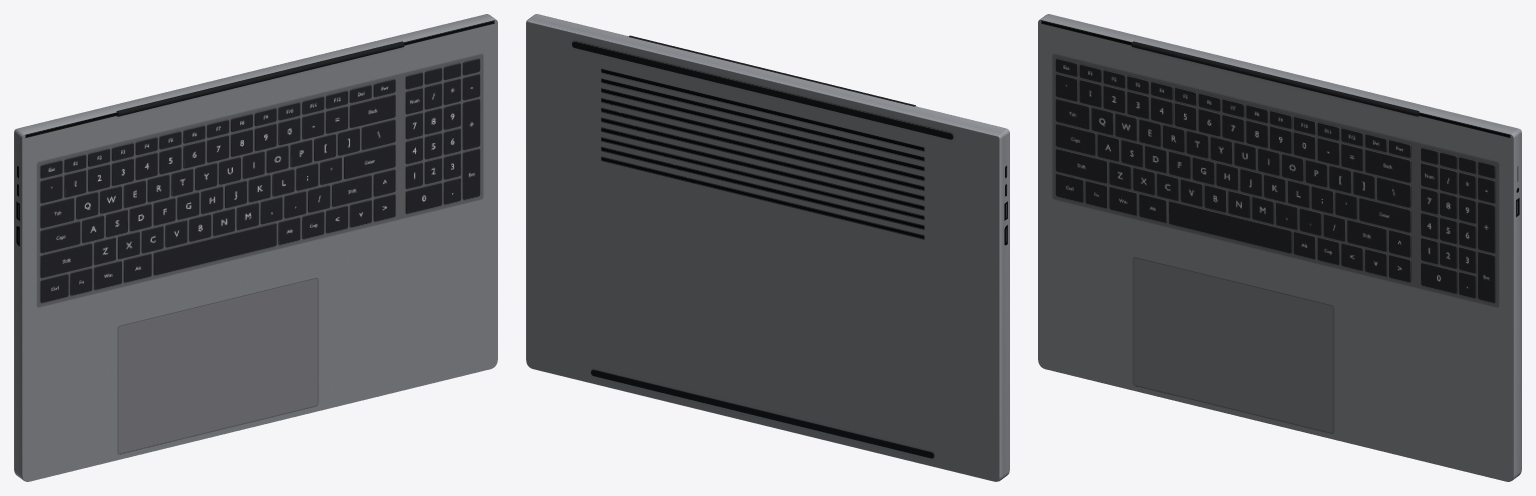
The model's file is body.obj.
3 views of the same model, side by side, from view 1: azimuth 30°, elevation 25°; view 2: azimuth 150°, elevation 25°; view 3: azimuth 330°, elevation 25° (orthographic).
Visible parts, largest first — view 1: deck, keys, base.002, base.003, hinge; view 2: base.004, base.005, base.002, base.003, hinge; view 3: deck, keys, base.002, base.001, hinge.
Part boxes in pixels (bbox=[...]): deck: bbox=[22, 20, 497, 481]; keys: bbox=[40, 58, 480, 302]; base.002: bbox=[15, 14, 496, 135]; base.003: bbox=[14, 130, 23, 480]; hinge: bbox=[116, 41, 404, 116]; base.004: bbox=[526, 22, 999, 481]; base.005: bbox=[572, 41, 953, 458]; base.002: bbox=[527, 14, 1008, 136]; base.003: bbox=[998, 130, 1009, 480]; hinge: bbox=[628, 35, 915, 106]; deck: bbox=[1038, 20, 1513, 481]; keys: bbox=[1056, 58, 1495, 302]; base.002: bbox=[1039, 14, 1520, 135]; base.001: bbox=[1512, 130, 1521, 480]; hinge: bbox=[1131, 41, 1419, 116].
Bounding box in the file's own units: 356 × 249 × 14.5.
Materials: 8 (6 with a texture image).
